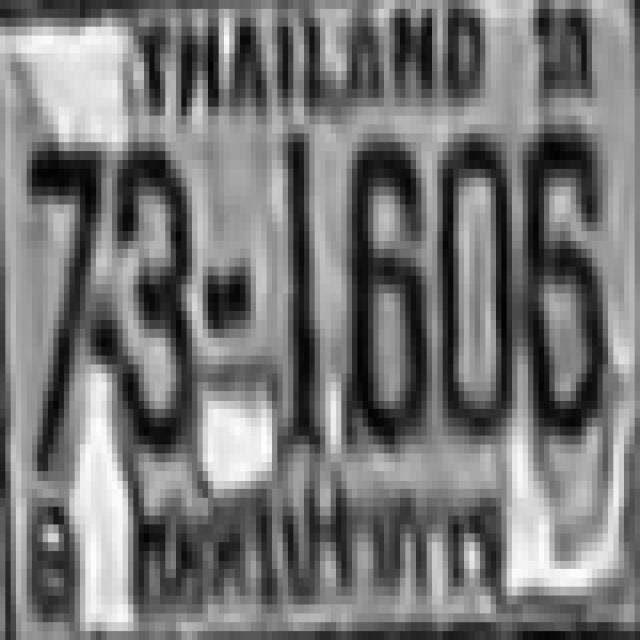0: (432, 124, 512, 436)
1: (282, 129, 314, 440)
3: (101, 134, 198, 454)
6: (517, 116, 603, 436), (342, 134, 422, 436)
7: (24, 129, 104, 458), (24, 133, 104, 364)
SPK: (123, 476, 521, 622)
